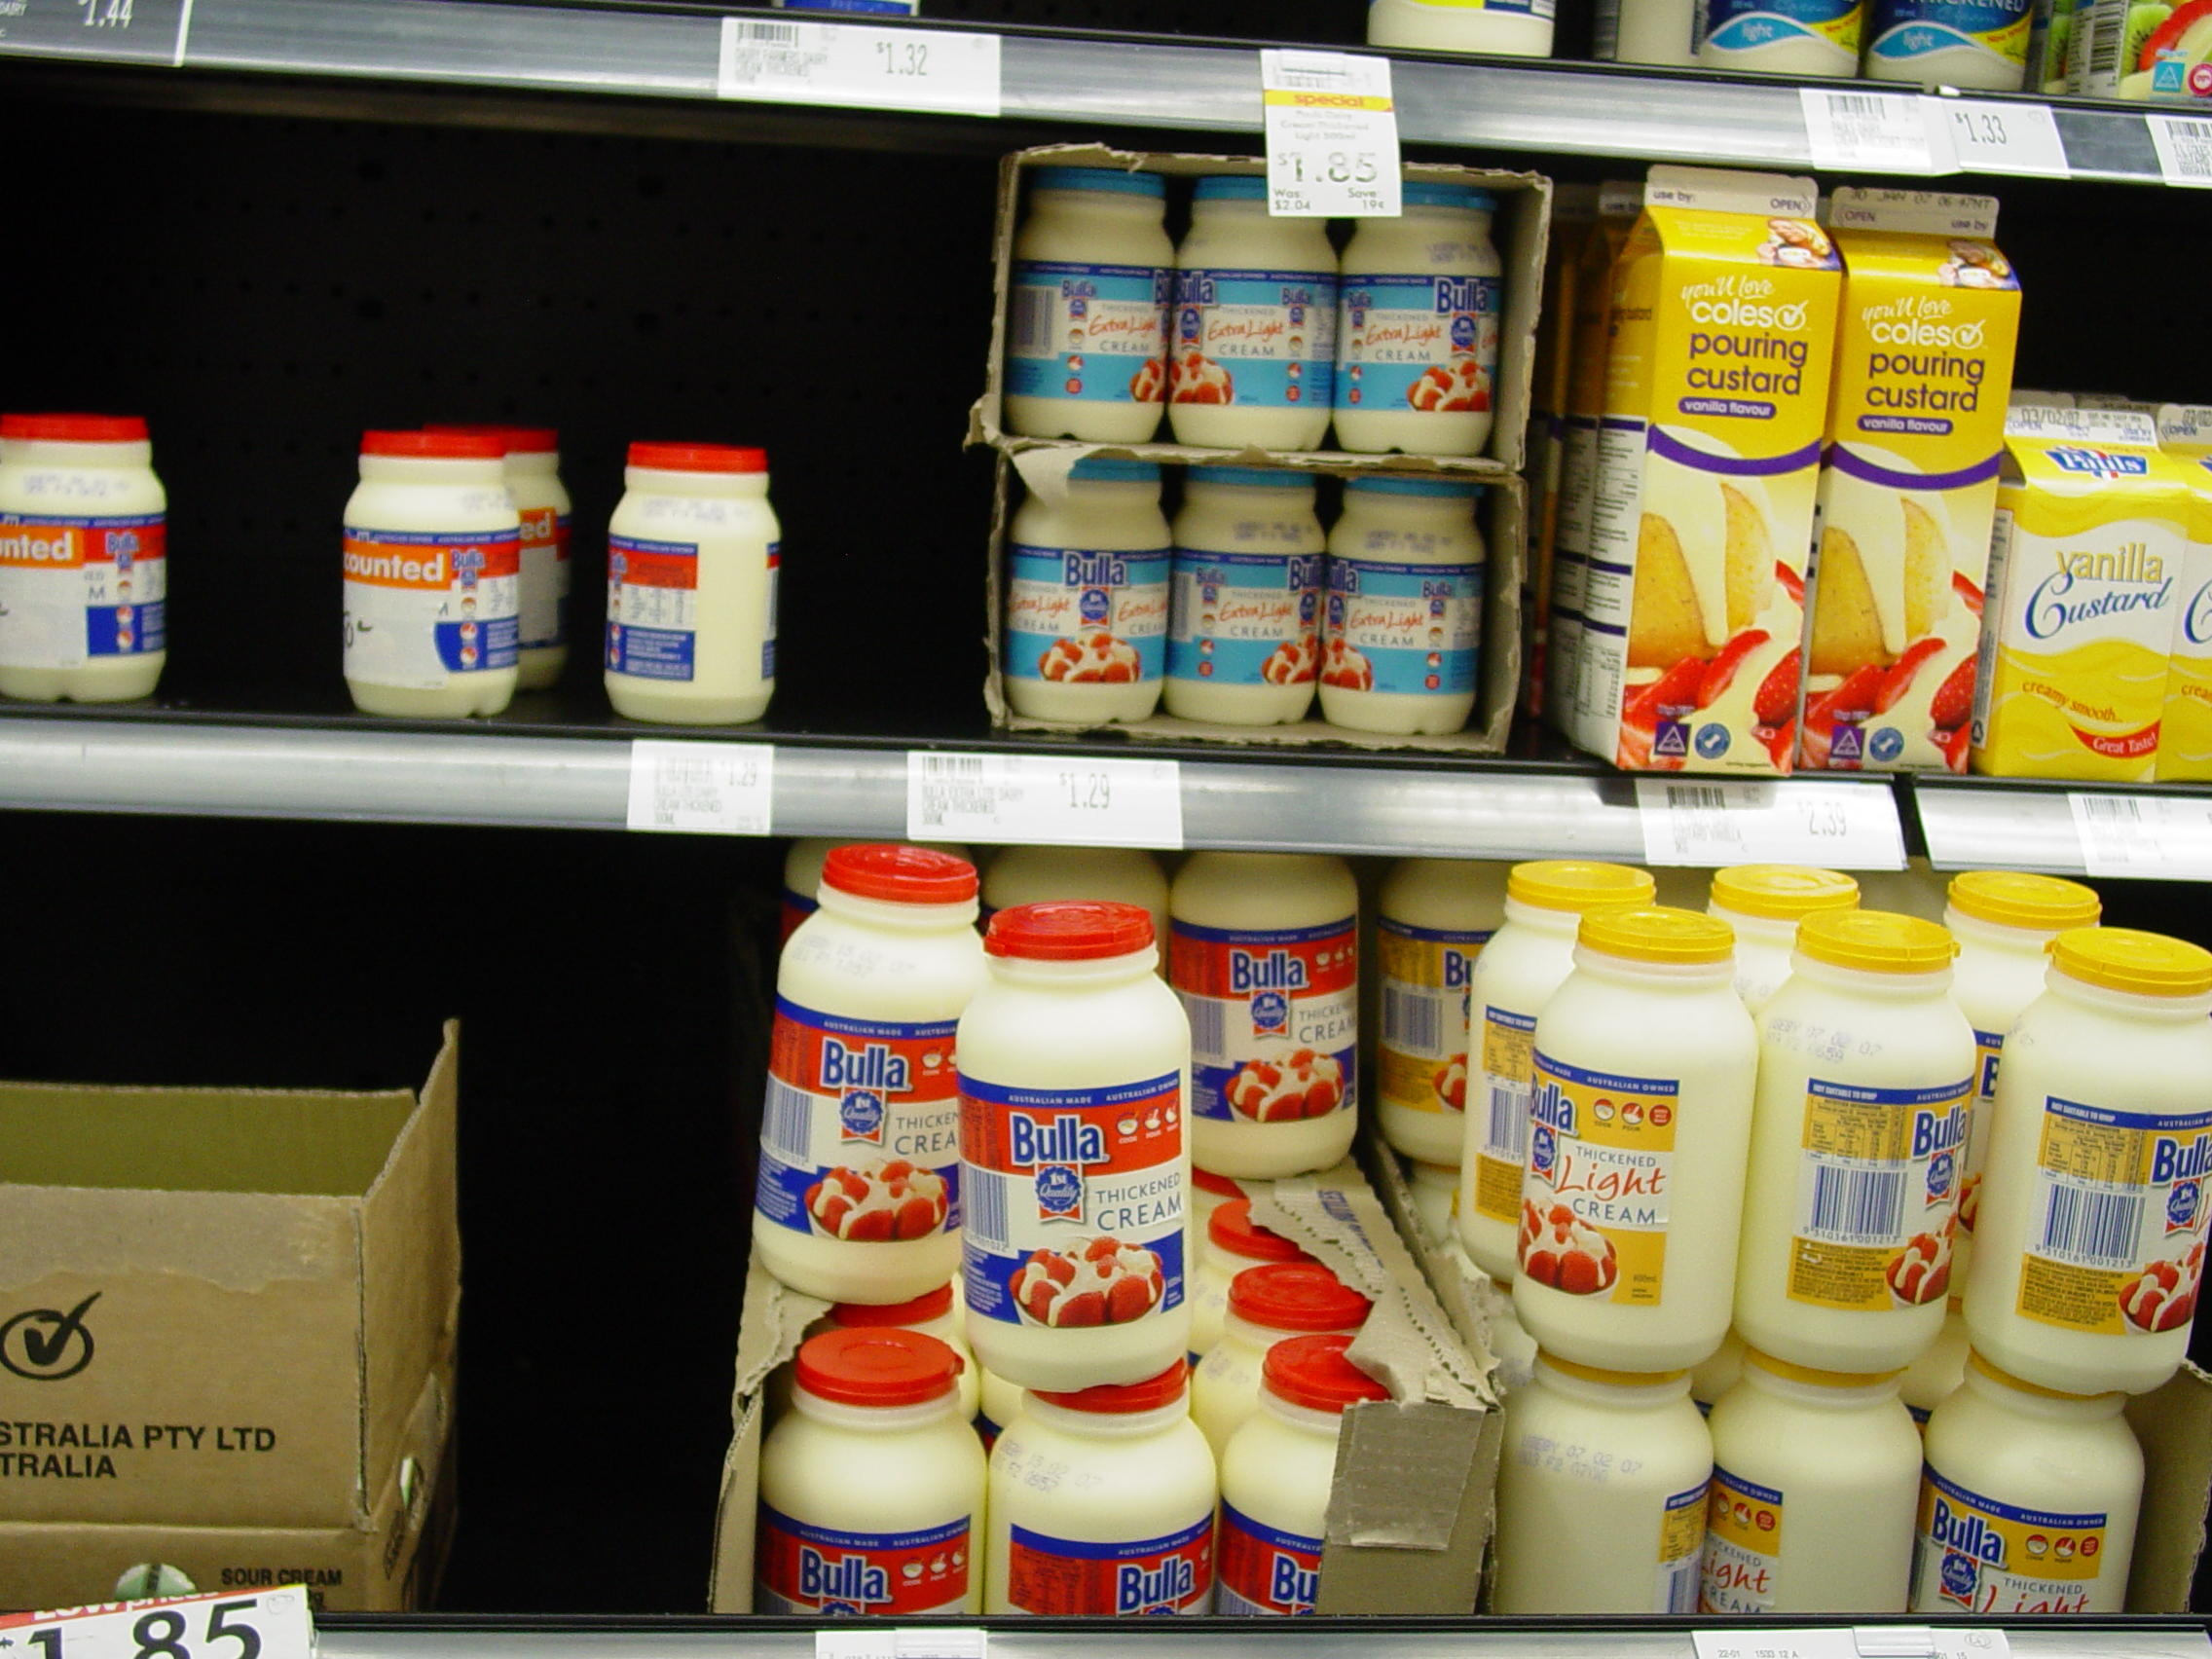Misplacement: (752, 842, 1223, 1622), (343, 403, 779, 756)
Out-of-stock: (472, 899, 698, 1612), (789, 167, 972, 732)
